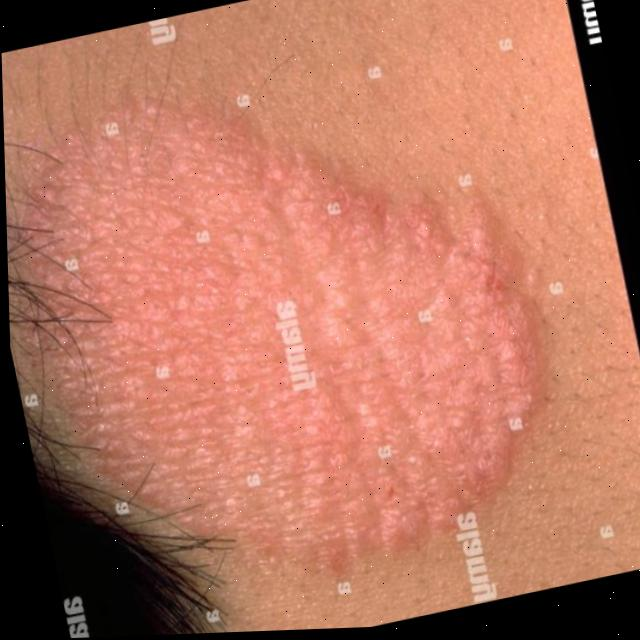Eczema: (2, 53, 545, 588)
